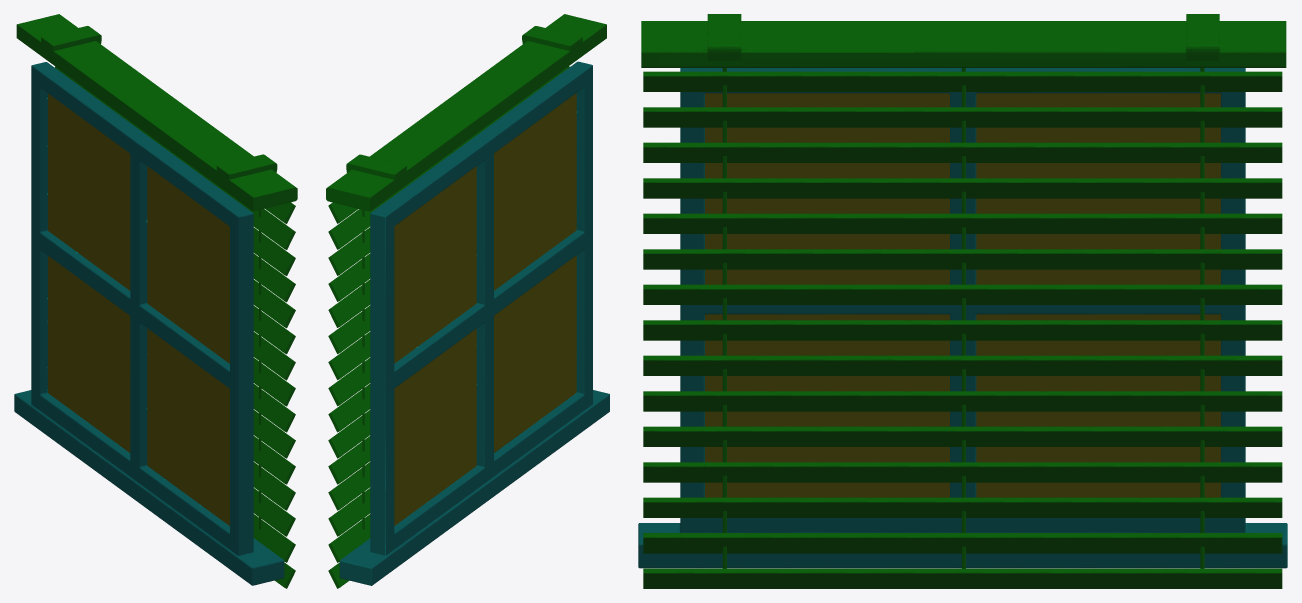
The model's file is window.glb.
3 views of the same model, side by side, from view 1: azimuth 30°, elevation 25°; view 2: azimuth 150°, elevation 25°; view 3: azimuth 270°, elevation 25° (orthographic). The views are drawn at different scales.
Parts seen in each view (by area): view 1: room2_window, room2_blind; view 2: room2_window, room2_blind; view 3: room2_blind, room2_window.
Part boxes in pixels (bbox=[...]): room2_window: bbox=[14, 62, 284, 585]; room2_blind: bbox=[16, 14, 297, 588]; room2_window: bbox=[339, 61, 609, 585]; room2_blind: bbox=[326, 14, 606, 588]; room2_blind: bbox=[641, 14, 1286, 588]; room2_window: bbox=[638, 68, 1287, 568].
Bounding box in the file's own units: 0.7979 × 6.12 × 6.52.
2 materials, 2 textured.
